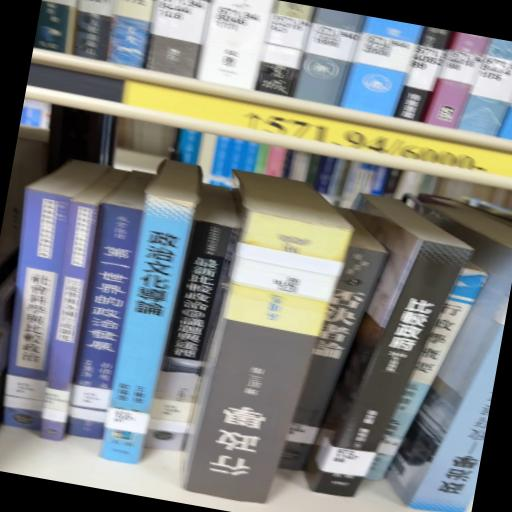reverse: (184, 172, 353, 504)
